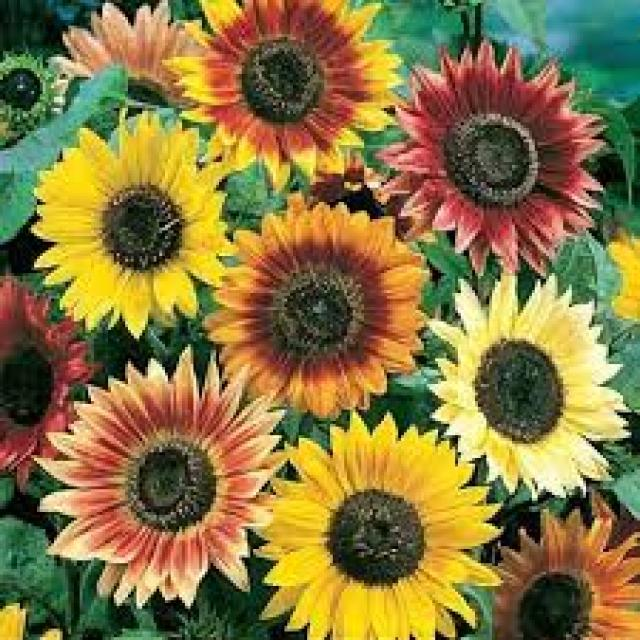sunflower: (34, 342, 300, 614), (370, 26, 626, 282), (242, 404, 508, 640), (203, 182, 437, 422), (22, 101, 246, 348), (416, 260, 640, 506), (154, 0, 429, 195), (36, 2, 232, 171), (447, 489, 640, 640), (284, 132, 439, 278), (0, 266, 93, 495), (597, 228, 640, 332), (0, 583, 57, 640)
